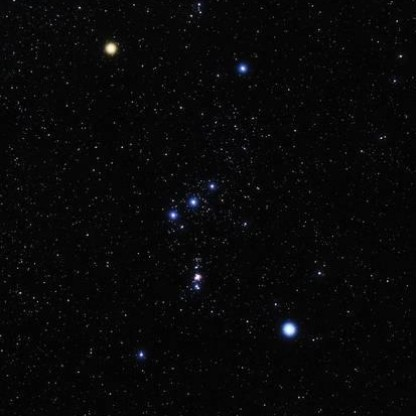Orion: (94, 28, 129, 69), (272, 310, 304, 343), (227, 54, 255, 78), (182, 190, 201, 216), (159, 205, 179, 228), (202, 175, 221, 199), (133, 341, 150, 364)
